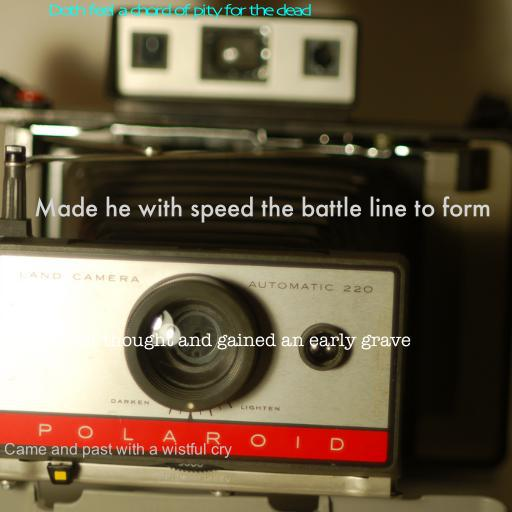American Typewriter: (0, 333, 411, 350)
Arial: (4, 442, 232, 458)
Futura: (33, 196, 491, 223)
Skia: (48, 3, 310, 19)
